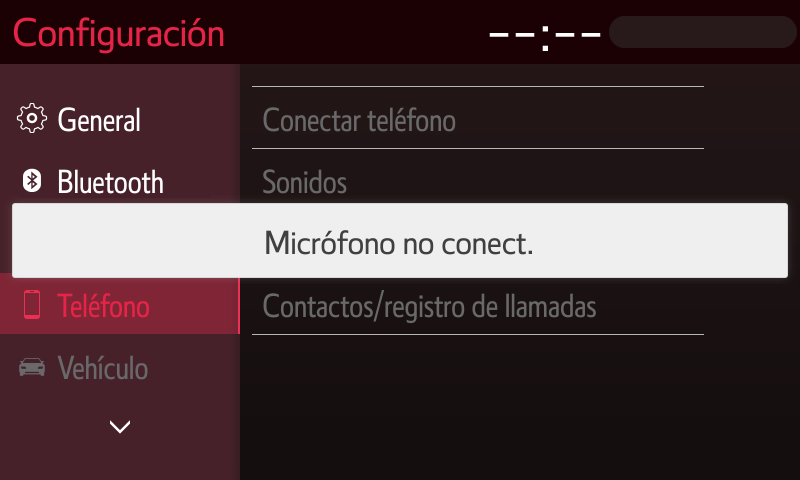touchPart: (13, 158, 176, 194), (16, 101, 146, 139), (105, 413, 141, 440)
untouchPart: (245, 75, 713, 156), (250, 273, 707, 339), (244, 142, 714, 206), (1, 269, 243, 336), (474, 9, 789, 56), (10, 7, 232, 52), (19, 352, 159, 384)
